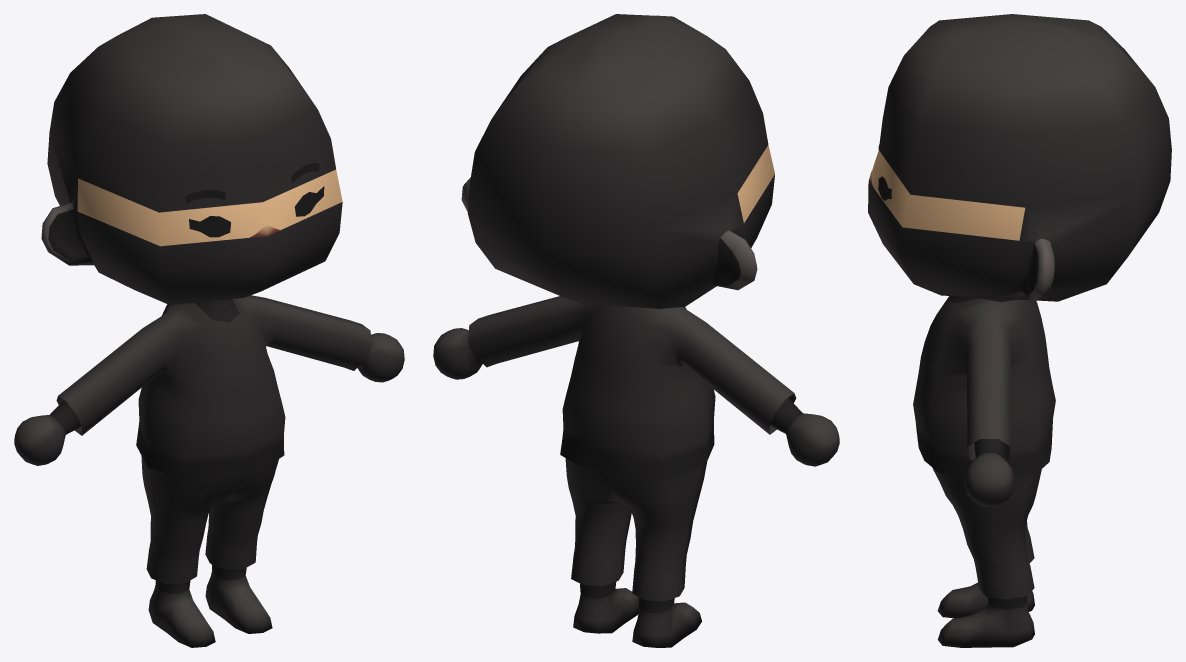
File: customer_ninja_A.fbx
3 renders of one model, left to right at view 1: azimuth 30°, elevation 25°; view 2: azimuth 150°, elevation 25°; view 3: azimuth 270°, elevation 25°, orthographic. The views are drawn at different scales.
Visible parts, largest first — view 1: customer_ninja_head_A_geo, customer_ninja_body_A_geo; view 2: customer_ninja_head_A_geo, customer_ninja_body_A_geo; view 3: customer_ninja_head_A_geo, customer_ninja_body_A_geo.
Part boxes in pixels (box(x1,y1,x2,y2)): customer_ninja_head_A_geo: box(41, 14, 342, 305); customer_ninja_body_A_geo: box(14, 295, 404, 647); customer_ninja_head_A_geo: box(461, 14, 774, 308); customer_ninja_body_A_geo: box(433, 296, 839, 647); customer_ninja_head_A_geo: box(868, 14, 1171, 302); customer_ninja_body_A_geo: box(913, 296, 1055, 647).
Bounding box in the file's own units: 1.49 × 2.16 × 0.9876.
